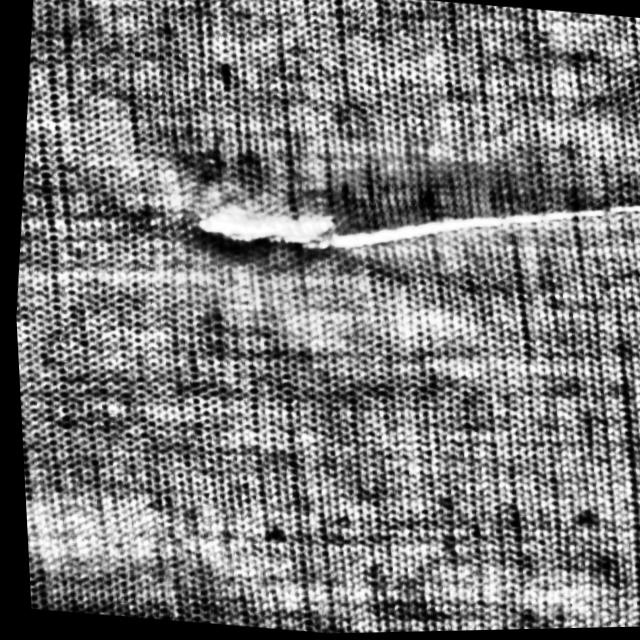Hole: (144, 166, 363, 284)
Stitch: (350, 135, 640, 300), (392, 157, 636, 287)
